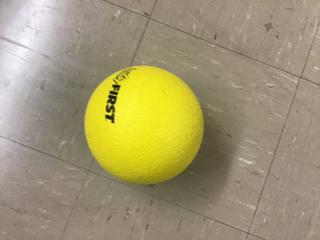power_cell: (71, 60, 221, 188)
